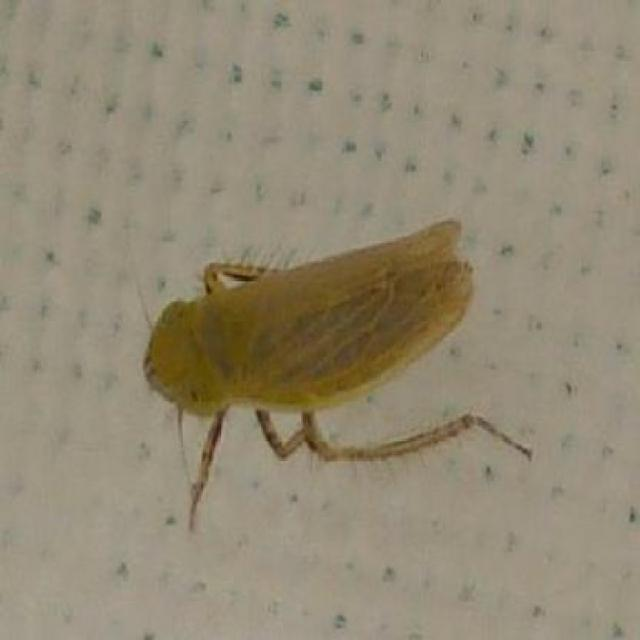green-leafhopper: (151, 144, 532, 538)
